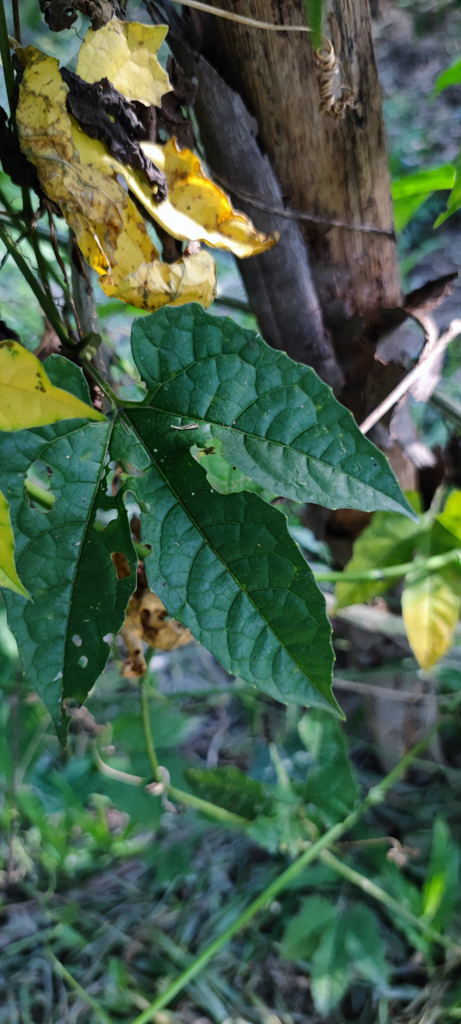Pepper yellow leaf: (12, 15, 303, 329), (5, 329, 110, 461), (401, 559, 460, 677)
